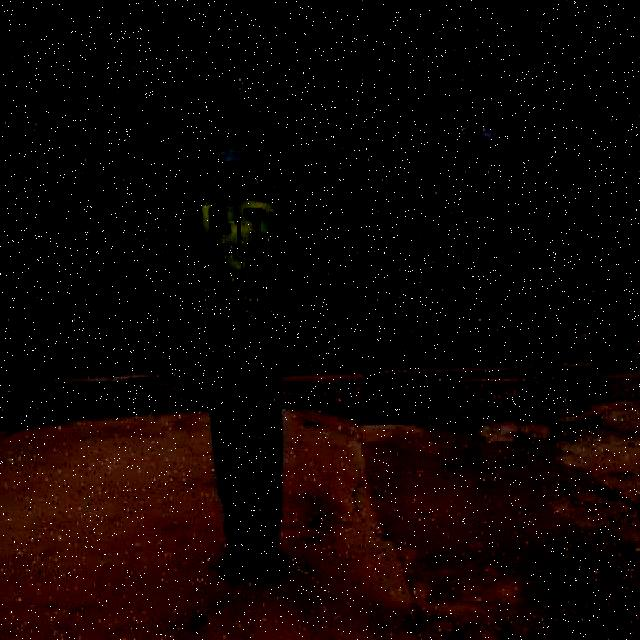Boots: (218, 542, 254, 580), (253, 540, 287, 580)
Gloves: (286, 118, 322, 186), (130, 130, 162, 198)
